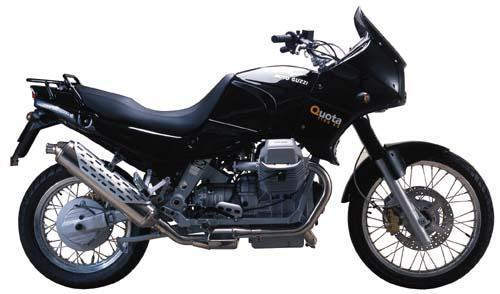motorcycle: (19, 9, 500, 294)
